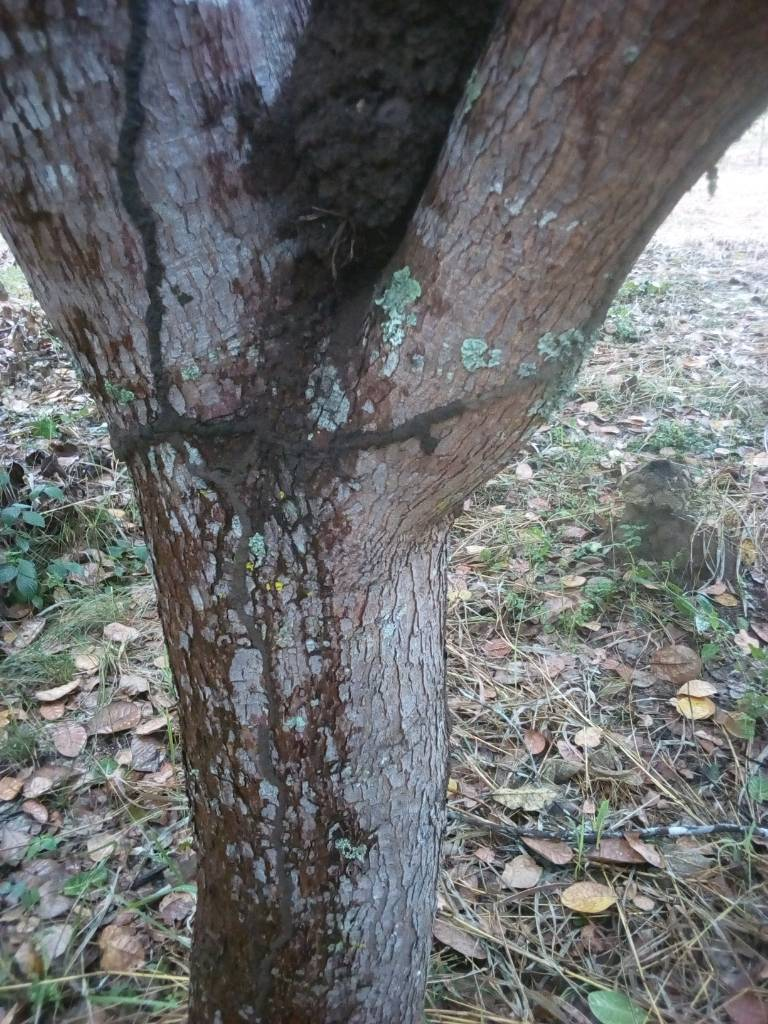Termites: (125, 392, 505, 507), (266, 32, 429, 253), (97, 19, 174, 361)
